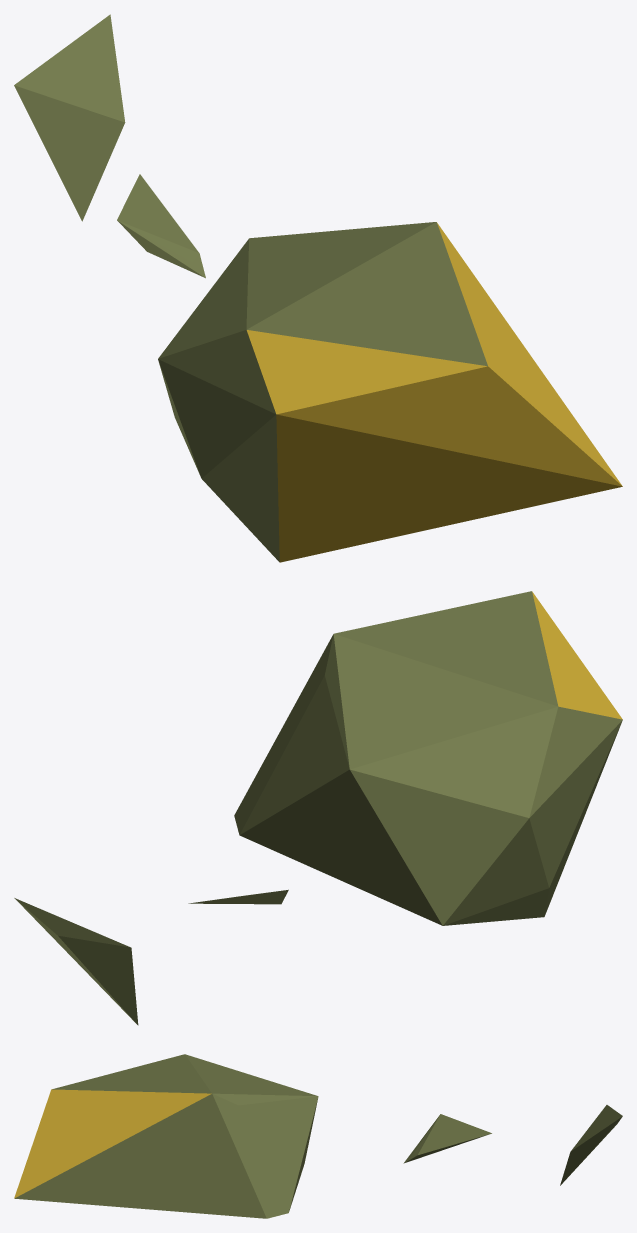
File: acid_glob.glb
The picture shows the model from 3 angles, top to bottom: view 1: azimuth 30°, elevation 25°; view 2: azimuth 150°, elevation 25°; view 3: azimuth 270°, elevation 25°; orthographic projection. The views are drawn at different scales.
Visible parts, largest first — view 1: acid_glob; view 2: acid_glob; view 3: acid_glob.
Part boxes in pixels (x1,y1,x2,y2): acid_glob: (14,14,622,562); acid_glob: (14,591,622,1025); acid_glob: (14,1054,622,1218).
Bounding box in the file's own units: 0.0832 × 0.0719 × 0.2339.
